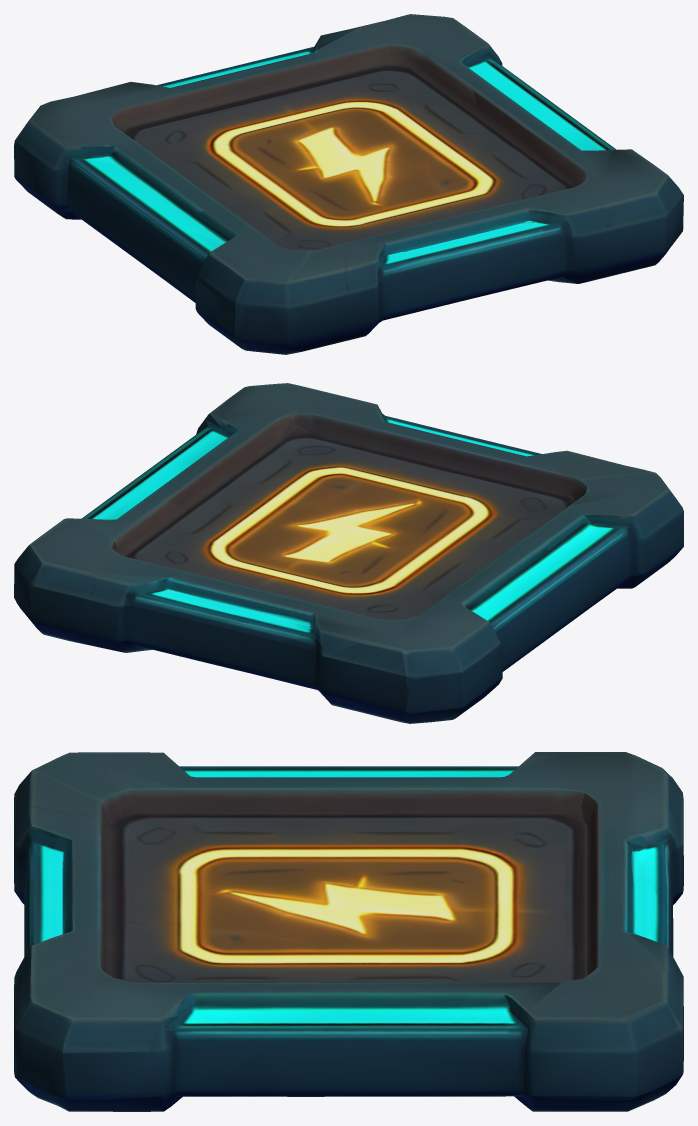
File: Obs8.fbx
3 views of the same model, one above another, from view 1: azimuth 30°, elevation 25°; view 2: azimuth 150°, elevation 25°; view 3: azimuth 270°, elevation 25° (orthographic). The views are drawn at different scales.
Parts seen in each view (by area): view 1: tmpmpp3f4t2.ply; view 2: tmpmpp3f4t2.ply; view 3: tmpmpp3f4t2.ply.
Boxes of the visible parts, left/top/right/bottom form: tmpmpp3f4t2.ply: left=14, top=14, right=683, bottom=354; tmpmpp3f4t2.ply: left=14, top=383, right=683, bottom=723; tmpmpp3f4t2.ply: left=14, top=752, right=683, bottom=1111.
Bounding box in the file's own units: 199 × 30.64 × 199.
1 material, 1 textured.
